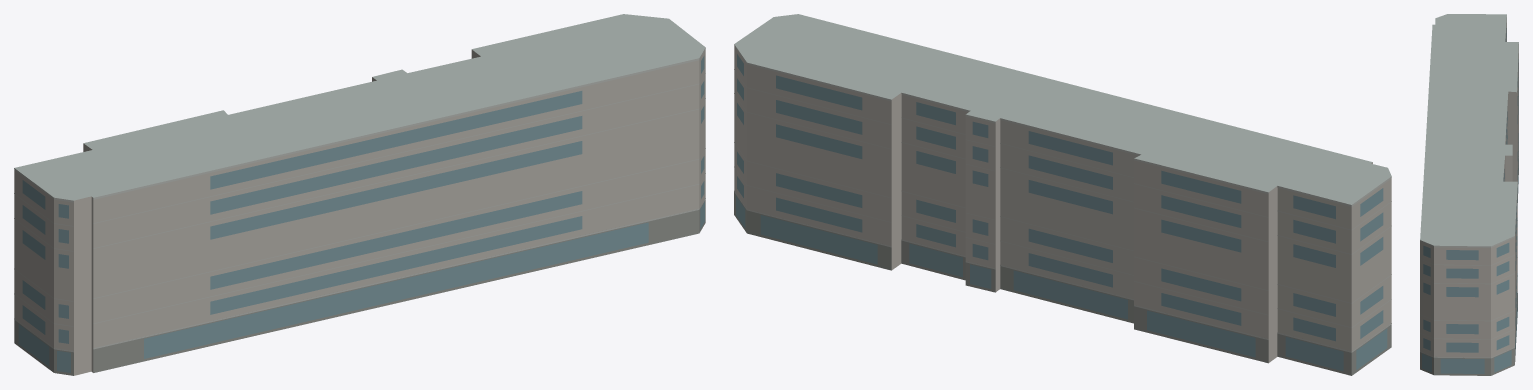
The model's file is survey-upis-33026642.glb.
3 views of the same model, side by side, from view 1: azimuth 30°, elevation 25°; view 2: azimuth 150°, elevation 25°; view 3: azimuth 270°, elevation 25° (orthographic). The views are drawn at different scales.
Visible parts, largest first — view 1: survey-upis-33026642.tmp; view 2: survey-upis-33026642.tmp; view 3: survey-upis-33026642.tmp.
Boxes of the visible parts, bbox=[...] form: survey-upis-33026642.tmp: bbox=[14, 14, 705, 375]; survey-upis-33026642.tmp: bbox=[734, 14, 1391, 375]; survey-upis-33026642.tmp: bbox=[1420, 14, 1518, 375].
Size of the model in its own units: 81.8 by 21.25 by 14.72.
